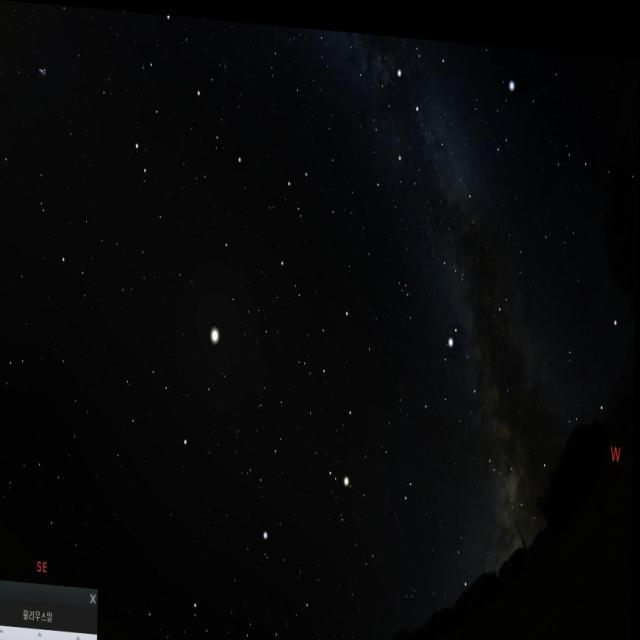aquila: (416, 314, 517, 478)
cygnus: (386, 29, 475, 201)
lyra: (486, 65, 520, 158)
pleiades: (32, 46, 51, 86)
